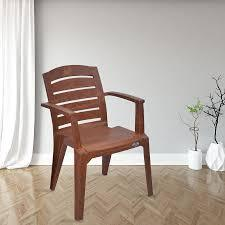chair: (40, 65, 158, 218)
